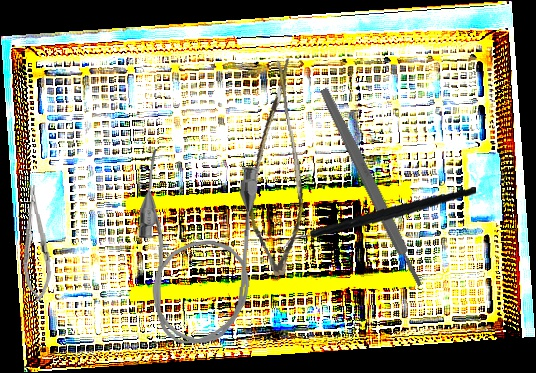Cannula: (133, 148, 259, 347)
Chopper: (279, 170, 477, 272)
Micro Scissor: (223, 54, 327, 279)
Needle Holder: (18, 184, 54, 302)
Scalpel Handle: (317, 86, 426, 289)
